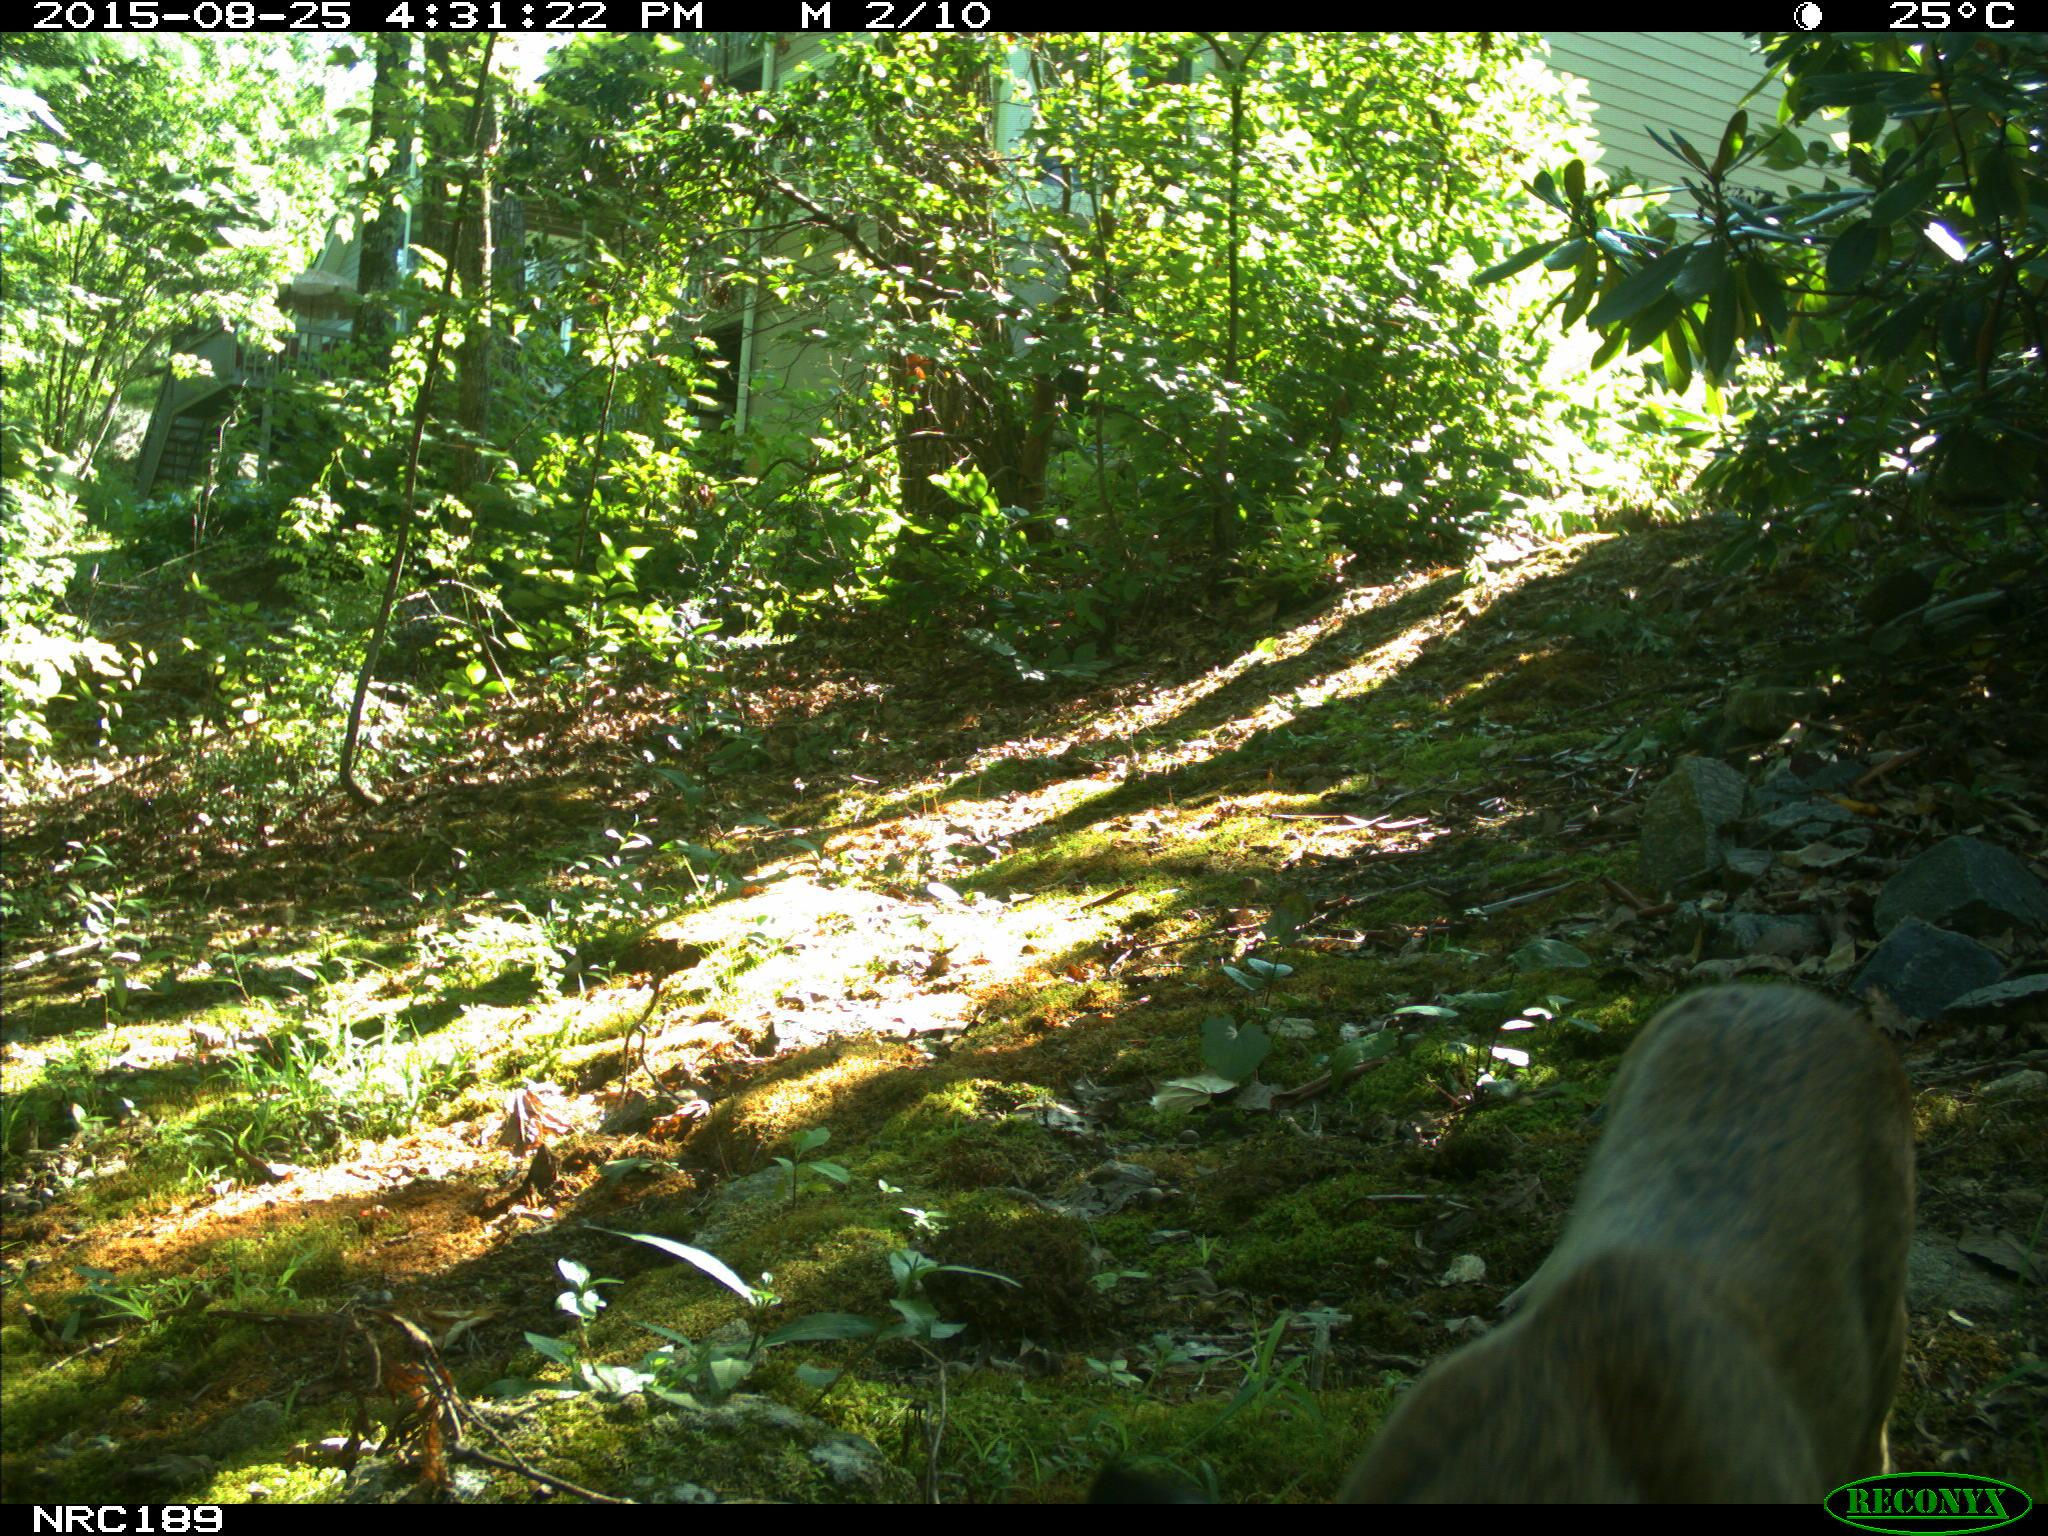Animal: (1334, 975, 1917, 1501)
